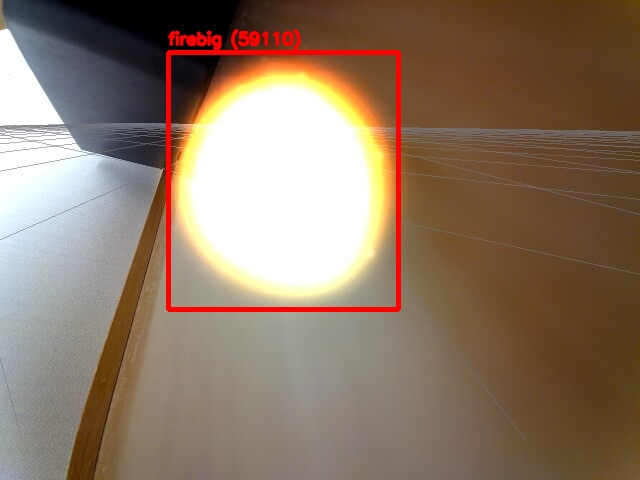firebig: (168, 52, 398, 309)
